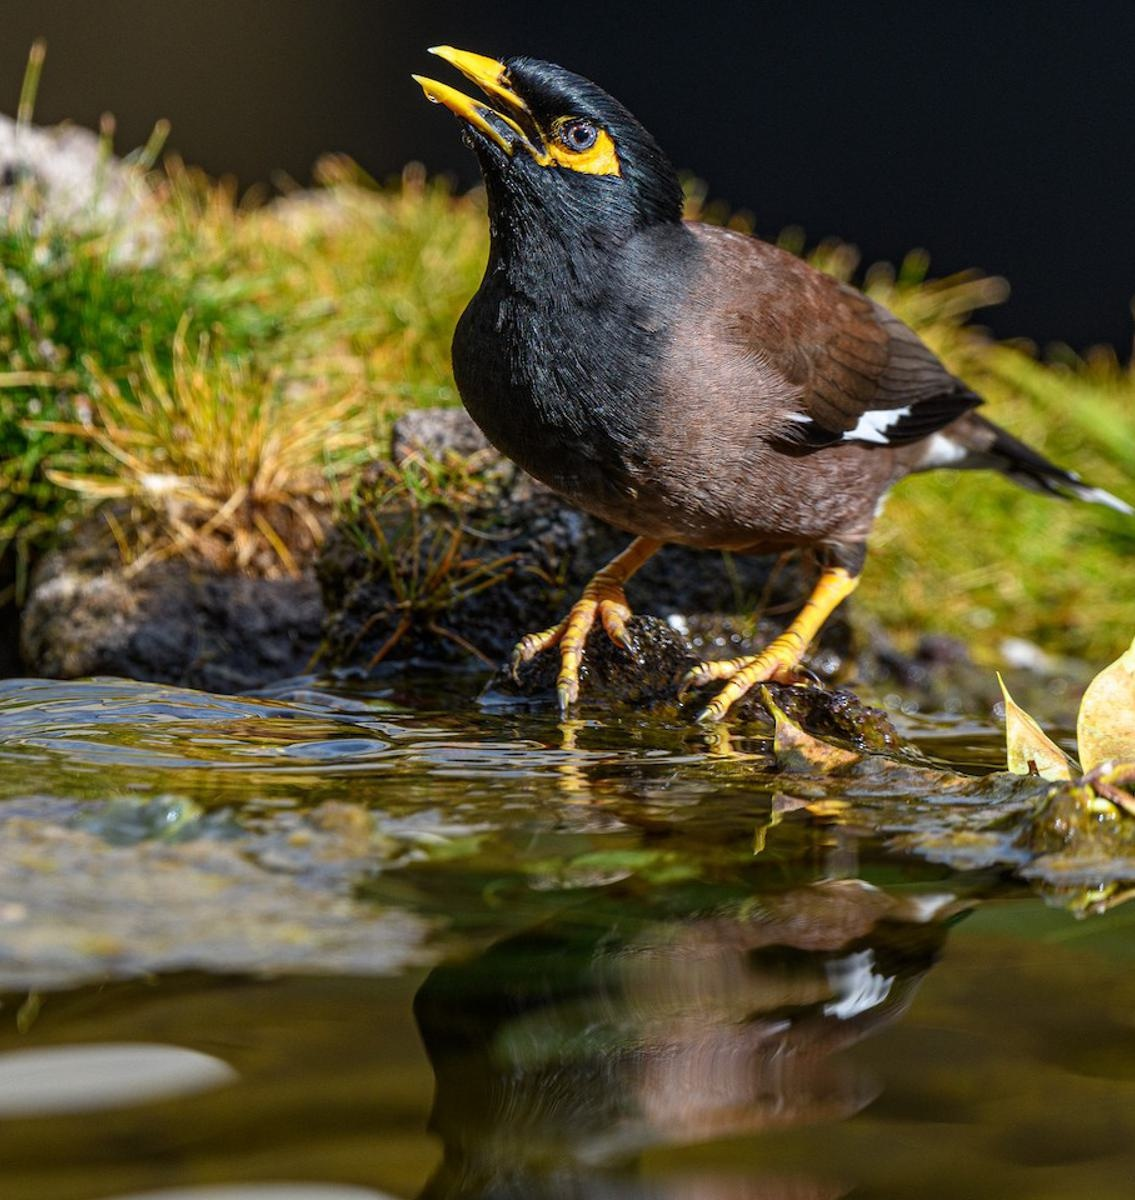myna: (372, 35, 990, 759)
